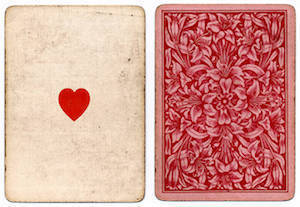AceOfHearts: (1, 1, 153, 204)
